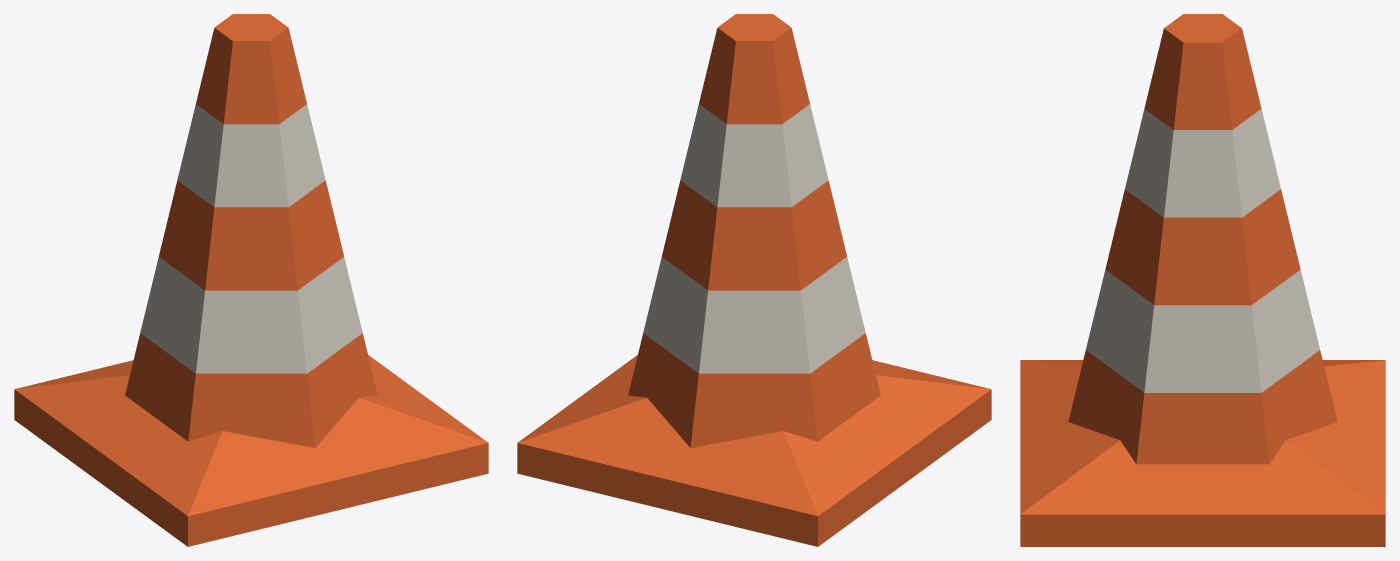
3 renders of one model, left to right at view 1: azimuth 30°, elevation 25°; view 2: azimuth 150°, elevation 25°; view 3: azimuth 270°, elevation 25°, orthographic. The views are drawn at different scales.
Parts seen in each view (by area): view 1: Cone; view 2: Cone; view 3: Cone.
Boxes of the visible parts, x1,y1,x2,y2 form: Cone: (14,14,488,546); Cone: (517,14,991,546); Cone: (1020,14,1385,546).
Size of the model in its own units: 40.54 by 54 by 40.54.
1 material, 1 textured.
